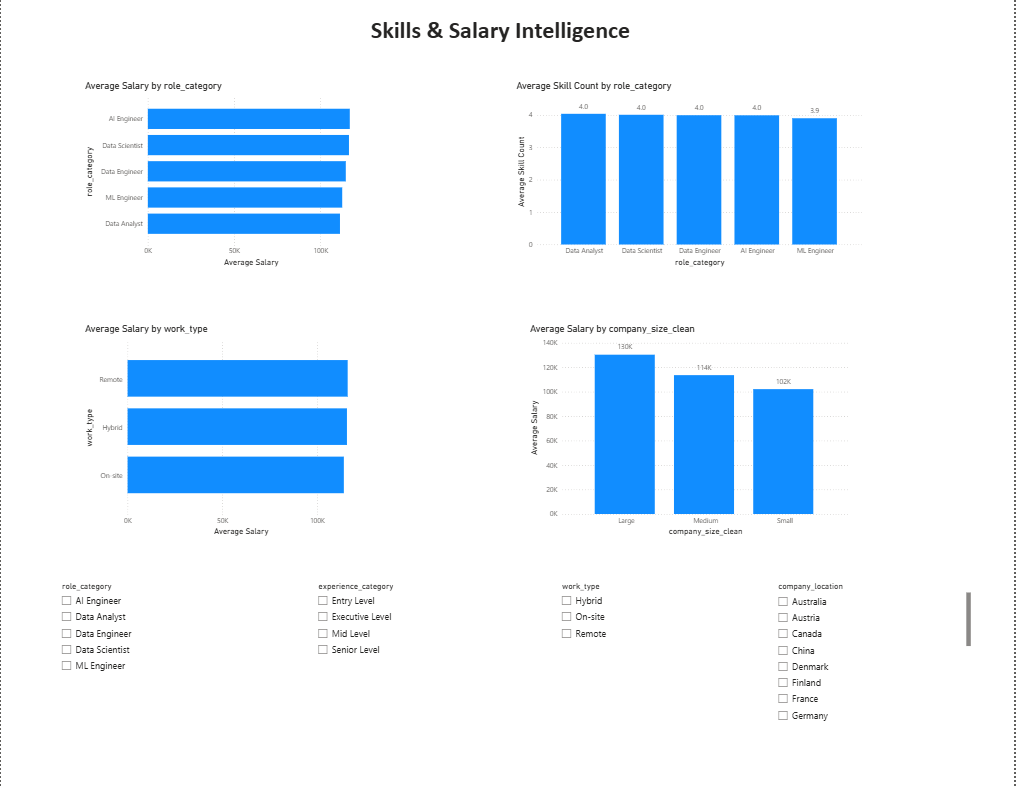

This screenshot's page, from the dashboard's own definition file:
{"tool":"powerbi","page":{"name":"Page 2","canvas":[1800,1400],"ordinal":1},"visuals":[{"type":"textbox","box":[0,24,1776,96],"z":0},{"type":"clusteredBarChart","fields":{"Category":["public jobs.role_category"],"Y":["public jobs.Average Salary"]},"box":[144,144,504,336],"z":1},{"type":"clusteredColumnChart","fields":{"Category":["public jobs.role_category"],"Y":["public jobs.Average Skill Count"]},"box":[912,144,624,336],"z":2},{"type":"clusteredBarChart","fields":{"Category":["public jobs.work_type"],"Y":["public jobs.Average Salary"]},"box":[144,576,504,384],"z":3},{"type":"clusteredColumnChart","fields":{"Category":["public jobs.company_size_clean"],"Y":["public jobs.Average Salary"]},"box":[936,576,576,384],"z":4},{"type":"slicer","fields":{"Values":["public jobs.role_category"]},"box":[96,1032,360,192],"z":5},{"type":"slicer","fields":{"Values":["public jobs.experience_category"]},"box":[552,1032,360,192],"z":6},{"type":"slicer","fields":{"Values":["public jobs.work_type"]},"box":[984,1032,360,192],"z":7},{"type":"slicer","fields":{"Values":["public jobs.company_location"]},"box":[1368,1032,360,264],"z":8}]}

Visuals, with their boxes in screenshot pixels (x1, y1, x2, y2), scaled from the page's 1800x1400 canvas onto the 1016x787 screenshot:
textbox: detection(0, 13, 1002, 67)
clusteredBarChart - public jobs.role_category x public jobs.Average Salary: detection(81, 81, 366, 270)
clusteredColumnChart - public jobs.role_category x public jobs.Average Skill Count: detection(515, 81, 867, 270)
clusteredBarChart - public jobs.work_type x public jobs.Average Salary: detection(81, 324, 366, 540)
clusteredColumnChart - public jobs.company_size_clean x public jobs.Average Salary: detection(528, 324, 853, 540)
slicer - public jobs.role_category: detection(54, 580, 257, 688)
slicer - public jobs.experience_category: detection(312, 580, 515, 688)
slicer - public jobs.work_type: detection(555, 580, 759, 688)
slicer - public jobs.company_location: detection(772, 580, 975, 729)
